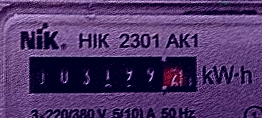0: (58, 65, 69, 85), (35, 66, 44, 84)
1: (102, 63, 111, 81)
3: (80, 66, 90, 86)
6: (168, 72, 178, 86)
9: (123, 62, 133, 82), (145, 65, 155, 83)
screen: (20, 45, 203, 101)
